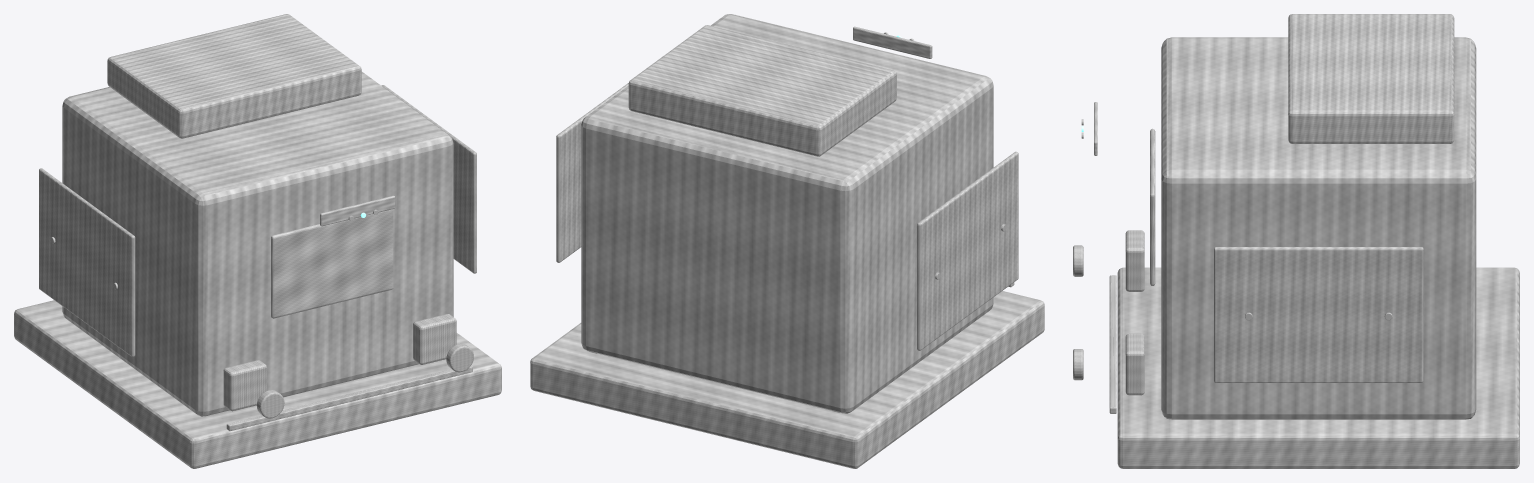
Rendered from constructor_variant_d.glb.
The picture shows the model from 3 angles, left to right: view 1: azimuth 30°, elevation 25°; view 2: azimuth 150°, elevation 25°; view 3: azimuth 270°, elevation 25°; orthographic projection. The views are drawn at different scales.
Parts seen in each view (by area): view 1: Main machine shell.003, Foundation skid.003, Upper service module.003, Side access panel.006, Process access window.003, Side access panel.007, Amber safety sill, Input output port.006, Input output port.007, Status panel.003, Port coupling.006, Port coupling.007; view 2: Main machine shell.003, Foundation skid.003, Upper service module.003, Side access panel.006, Side access panel.007, Status panel.003; view 3: Main machine shell.003, Foundation skid.003, Side access panel.007, Upper service module.003, Input output port.007, Input output port.006, Amber safety sill, Process access window.003.
Boxes of the visible parts, bbox=[...] form: Main machine shell.003: bbox=[62, 71, 453, 416]; Foundation skid.003: bbox=[14, 300, 501, 468]; Upper service module.003: bbox=[107, 14, 361, 138]; Side access panel.006: bbox=[39, 168, 135, 356]; Process access window.003: bbox=[271, 209, 393, 318]; Side access panel.007: bbox=[381, 85, 476, 273]; Amber safety sill: bbox=[226, 366, 472, 431]; Input output port.006: bbox=[223, 360, 266, 411]; Input output port.007: bbox=[413, 314, 456, 364]; Status panel.003: bbox=[320, 195, 395, 226]; Port coupling.006: bbox=[256, 390, 284, 418]; Port coupling.007: bbox=[446, 343, 473, 372]; Main machine shell.003: bbox=[581, 14, 993, 413]; Foundation skid.003: bbox=[530, 291, 1044, 468]; Upper service module.003: bbox=[628, 25, 896, 156]; Side access panel.006: bbox=[917, 151, 1018, 350]; Side access panel.007: bbox=[556, 83, 628, 262]; Status panel.003: bbox=[853, 26, 932, 58]; Main machine shell.003: bbox=[1161, 37, 1476, 419]; Foundation skid.003: bbox=[1117, 267, 1519, 468]; Side access panel.007: bbox=[1214, 247, 1423, 382]; Upper service module.003: bbox=[1288, 14, 1454, 143]; Input output port.007: bbox=[1125, 333, 1144, 395]; Input output port.006: bbox=[1125, 230, 1144, 291]; Amber safety sill: bbox=[1109, 275, 1116, 413]; Process access window.003: bbox=[1150, 128, 1155, 285].
Size of what is drawn, in the model's own units: 5.16 by 4.08 by 5.11.
6 materials, 6 textured.
